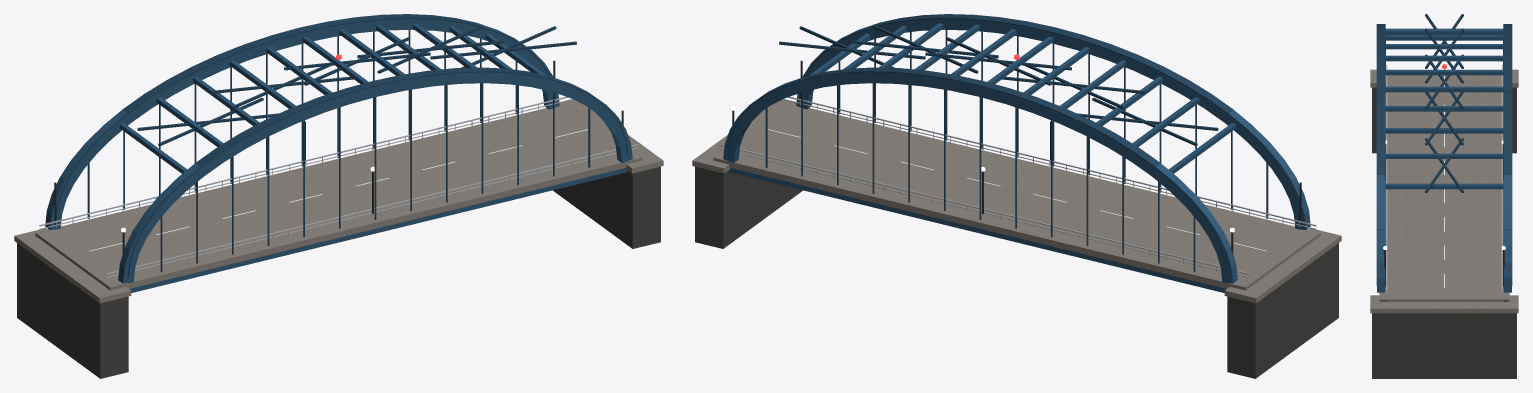
The model's file is OT_Bridge_Steel.glb.
3 renders of one model, left to right at view 1: azimuth 30°, elevation 25°; view 2: azimuth 150°, elevation 25°; view 3: azimuth 270°, elevation 25°, orthographic. The views are drawn at different scales.
Parts seen in each view (by area): view 1: OT_Bridge_Steel_Concrete, OT_Bridge_Steel_BridgeSteel__2f5a7a, OT_Bridge_Steel_BridgeSteelDark__24465f, OT_Bridge_Steel_Stone, OT_Bridge_Steel_Galv__b4b9bf; view 2: OT_Bridge_Steel_Concrete, OT_Bridge_Steel_BridgeSteel__2f5a7a, OT_Bridge_Steel_BridgeSteelDark__24465f, OT_Bridge_Steel_Stone, OT_Bridge_Steel_Galv__b4b9bf; view 3: OT_Bridge_Steel_Concrete, OT_Bridge_Steel_Stone, OT_Bridge_Steel_BridgeSteel__2f5a7a, OT_Bridge_Steel_BridgeSteelDark__24465f, OT_Bridge_Steel_Galv__b4b9bf, OT_Bridge_Steel_PoleDark__2a2c30.
Part boxes in pixels (x1,y1,x2,y2): OT_Bridge_Steel_Concrete: (14,99,663,303); OT_Bridge_Steel_BridgeSteel__2f5a7a: (36,19,632,292); OT_Bridge_Steel_BridgeSteelDark__24465f: (56,14,627,277); OT_Bridge_Steel_Stone: (17,166,660,378); OT_Bridge_Steel_Galv__b4b9bf: (39,96,638,278); OT_Bridge_Steel_Concrete: (692,99,1341,303); OT_Bridge_Steel_BridgeSteel__2f5a7a: (723,19,1310,292); OT_Bridge_Steel_BridgeSteelDark__24465f: (728,14,1299,277); OT_Bridge_Steel_Stone: (695,166,1338,378); OT_Bridge_Steel_Galv__b4b9bf: (717,96,1316,278); OT_Bridge_Steel_Concrete: (1370,69,1518,313); OT_Bridge_Steel_Stone: (1372,87,1516,378); OT_Bridge_Steel_BridgeSteel__2f5a7a: (1377,28,1511,301); OT_Bridge_Steel_BridgeSteelDark__24465f: (1376,14,1512,285); OT_Bridge_Steel_Galv__b4b9bf: (1386,64,1502,293); OT_Bridge_Steel_PoleDark__2a2c30: (1384,41,1504,286).
Size of the model in its own units: 67.8 by 25.95 by 17.8.
9 materials, 2 textured.
